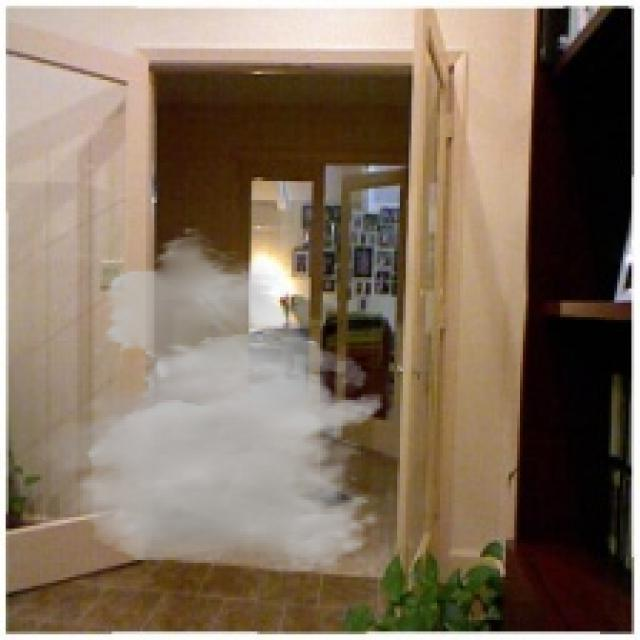Smoke: (28, 226, 386, 574)
